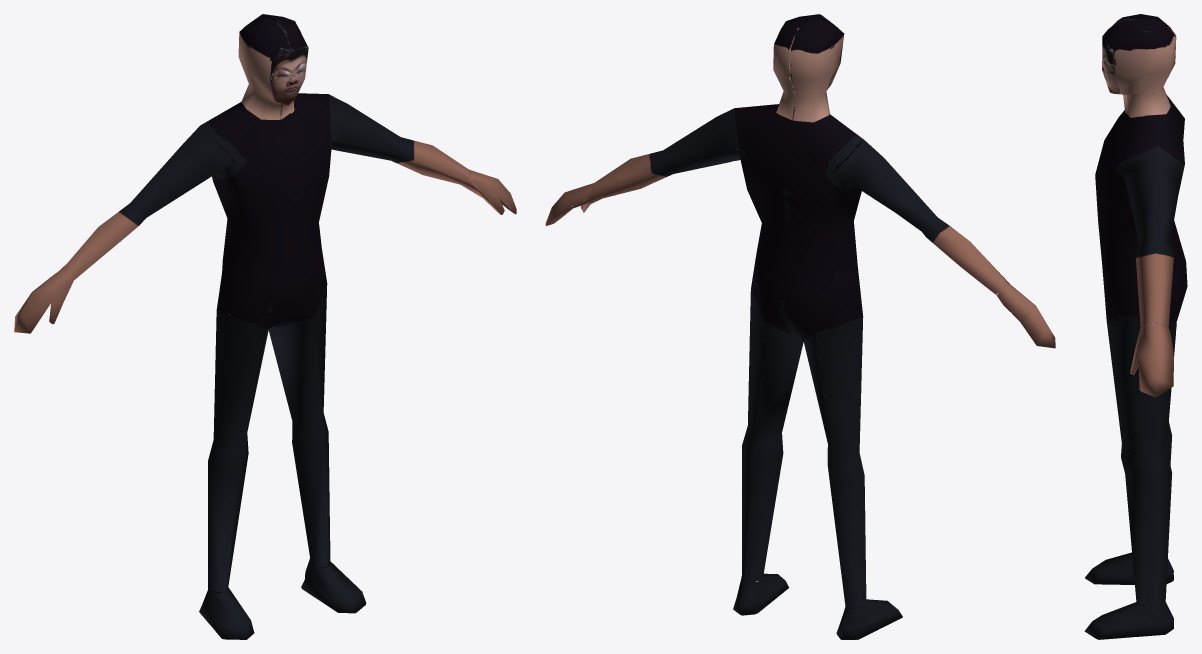
Rendered from Quanly.fbx.
3 views of the same model, side by side, from view 1: azimuth 30°, elevation 25°; view 2: azimuth 150°, elevation 25°; view 3: azimuth 270°, elevation 25° (orthographic).
Visible parts, largest first — view 1: HumanoidBase_NotOverlapping; view 2: HumanoidBase_NotOverlapping; view 3: HumanoidBase_NotOverlapping.
Part boxes in pixels (box(x1,y1,x2,y2)): HumanoidBase_NotOverlapping: box(14, 14, 516, 639); HumanoidBase_NotOverlapping: box(545, 14, 1055, 639); HumanoidBase_NotOverlapping: box(1084, 14, 1187, 639).
Bounding box in the file's own units: 161 × 180 × 28.62.
